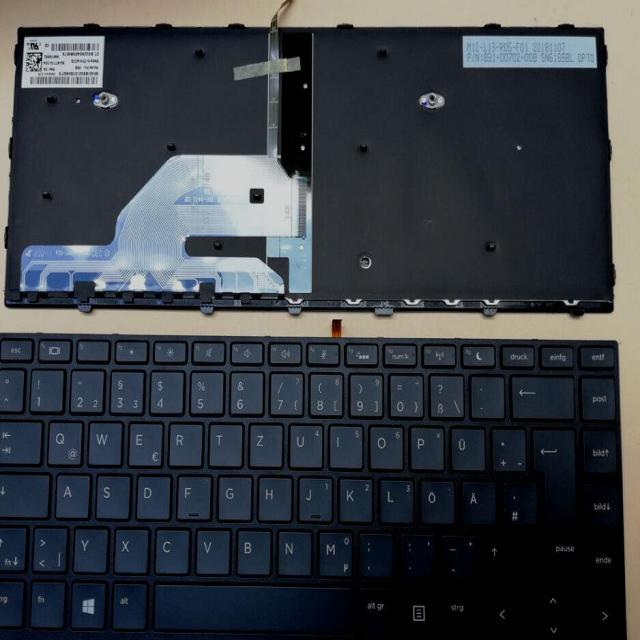0: (387, 370, 423, 417)
1: (27, 364, 63, 411)
2: (67, 365, 103, 412)
3: (107, 366, 143, 412)
4: (148, 367, 183, 413)
5: (187, 367, 222, 413)
6: (227, 368, 262, 414)
7: (267, 368, 303, 414)
8: (306, 369, 342, 415)
9: (346, 370, 382, 416)
a: (53, 469, 89, 517)
accent: (467, 370, 503, 417)
ae: (459, 476, 496, 524)
alt-left: (109, 579, 145, 628)
altgr-right: (356, 583, 393, 633)
b: (234, 525, 271, 573)
c: (152, 524, 189, 574)
caret: (0, 365, 23, 410)
comma: (356, 528, 392, 576)
d: (134, 470, 169, 519)
del: (508, 370, 573, 417)
e: (125, 417, 162, 466)
enter: (530, 424, 575, 526)
f: (174, 471, 209, 519)
g: (214, 471, 250, 520)
h: (254, 472, 290, 519)
hash: (500, 476, 536, 525)
i: (326, 420, 362, 466)
j: (295, 472, 331, 520)
k: (336, 474, 372, 521)
keyboard: (0, 330, 630, 640)
l: (377, 474, 413, 522)
less: (29, 521, 67, 571)
m: (315, 527, 353, 576)
minus: (439, 530, 476, 578)
n: (275, 526, 311, 574)
o: (367, 422, 403, 468)
oe: (418, 475, 454, 523)
p: (407, 421, 444, 469)
plus: (489, 423, 525, 470)
point: (398, 529, 435, 576)
q: (44, 416, 82, 464)
r: (166, 418, 201, 466)
s: (93, 471, 129, 518)
shift-left: (0, 522, 25, 571)
shift-lock: (0, 468, 48, 516)
shift-right: (481, 529, 578, 580)
space: (150, 580, 352, 632)
ss: (426, 371, 463, 417)
strg-left: (0, 575, 23, 626)
strg-right: (440, 585, 477, 636)
t: (206, 418, 241, 466)
tab: (0, 415, 41, 463)
u: (286, 420, 322, 467)
ue: (448, 422, 484, 470)
v: (193, 524, 229, 573)
w: (85, 416, 121, 465)
x: (112, 524, 148, 573)
y: (71, 523, 107, 572)
z: (246, 419, 281, 465)
